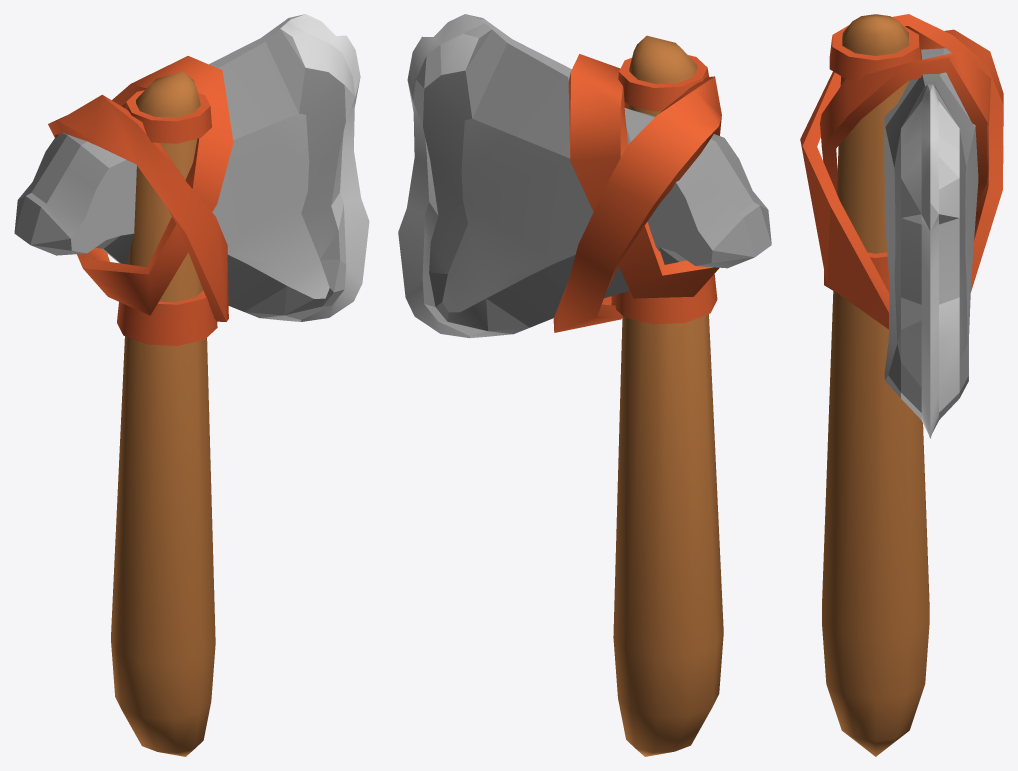
Rendered from CaveAxe.FBX.
3 views of the same model, side by side, from view 1: azimuth 30°, elevation 25°; view 2: azimuth 150°, elevation 25°; view 3: azimuth 270°, elevation 25° (orthographic). The views are drawn at different scales.
Visible parts, largest first — view 1: CaveAxe; view 2: CaveAxe; view 3: CaveAxe.
Part boxes in pixels (bbox=[...]): CaveAxe: bbox=[14, 14, 369, 756]; CaveAxe: bbox=[398, 14, 771, 756]; CaveAxe: bbox=[800, 14, 1003, 756].
Bounding box in the file's own units: 48.58 × 92.12 × 22.94.
1 material, 1 textured.
